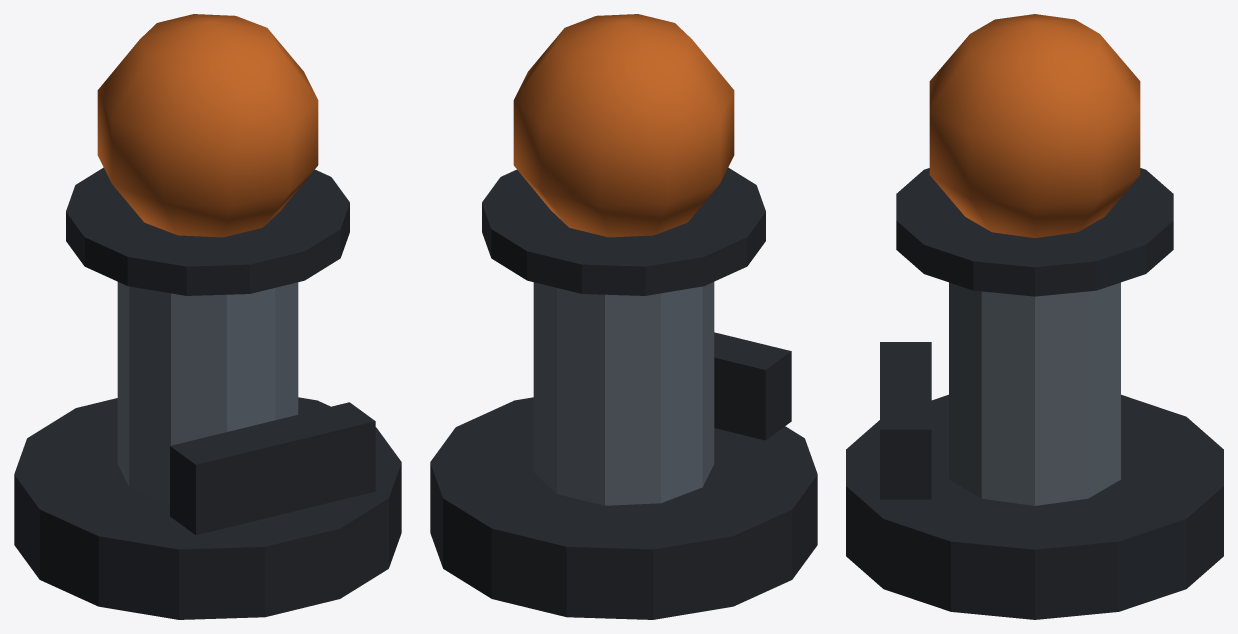
Rendered from shield-generator.glb.
The picture shows the model from 3 angles, left to right: view 1: azimuth 30°, elevation 25°; view 2: azimuth 150°, elevation 25°; view 3: azimuth 270°, elevation 25°; orthographic projection.
Parts seen in each view (by area): view 1: shield-generator; view 2: shield-generator; view 3: shield-generator.
Boxes of the visible parts, box(x1,y1,x2,y2) form: shield-generator: box(14, 14, 401, 619); shield-generator: box(430, 14, 817, 619); shield-generator: box(846, 14, 1223, 619).
Size of the model in its own units: 0.3 by 0.44 by 0.2925.
